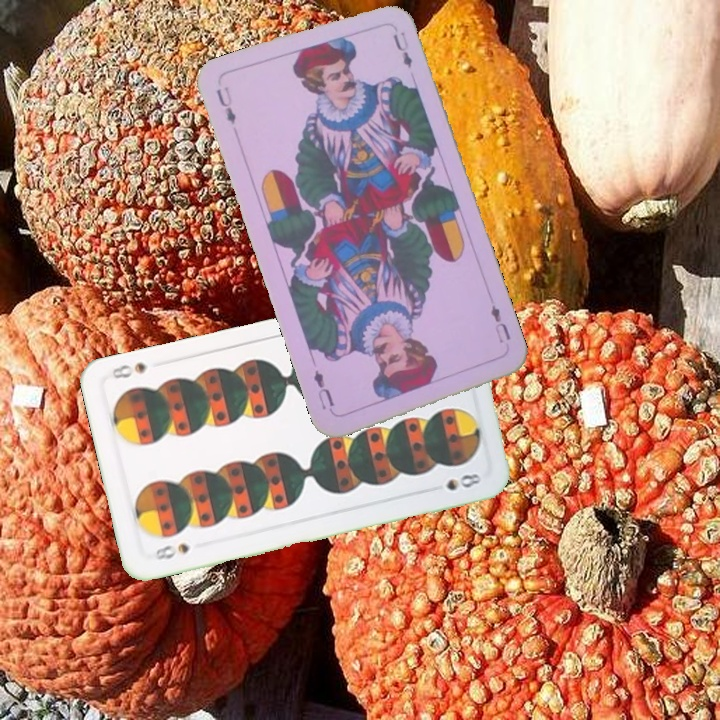EU: (486, 301, 513, 346), (212, 82, 239, 127)
S8: (149, 539, 192, 563)
